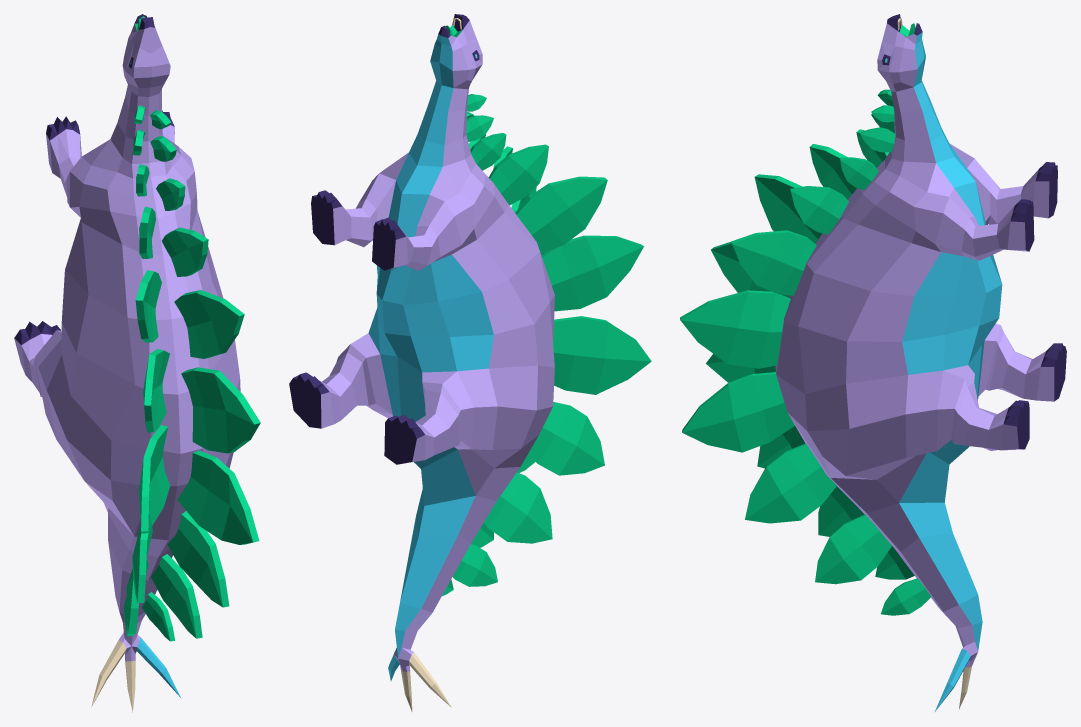
Rendered from 012_Dino.fbx.
The picture shows the model from 3 angles, left to right: view 1: azimuth 30°, elevation 25°; view 2: azimuth 150°, elevation 25°; view 3: azimuth 270°, elevation 25°; orthographic projection. The views are drawn at different scales.
Visible parts, largest first — view 1: DINO; view 2: DINO; view 3: DINO.
Part boxes in pixels (x1=…): DINO: x1=14, y1=14, x2=260, y2=712; DINO: x1=289, y1=14, x2=651, y2=711; DINO: x1=680, y1=14, x2=1066, y2=712.
Size of the model in its own units: 36.84 by 114 by 58.11.
